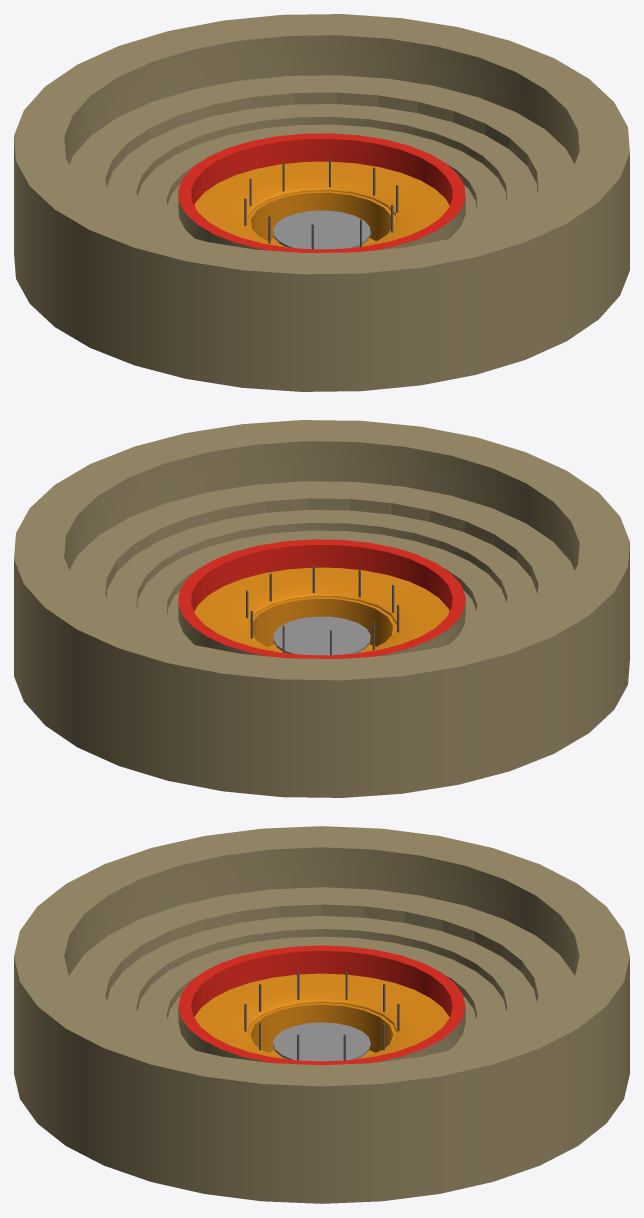
File: COlISEORE.fbx
3 renders of one model, top to bottom at view 1: azimuth 30°, elevation 25°; view 2: azimuth 150°, elevation 25°; view 3: azimuth 270°, elevation 25°, orthographic.
Parts seen in each view (by area): view 1: Circle, Coliseo, Stage, cage; view 2: Circle, Coliseo, Stage, cage; view 3: Circle, Coliseo, Stage, cage.
Part boxes in pixels (bbox=[...]): Circle: bbox=[14, 14, 629, 391]; Coliseo: bbox=[194, 161, 449, 247]; Stage: bbox=[273, 210, 370, 249]; cage: bbox=[244, 159, 398, 249]; Circle: bbox=[14, 420, 629, 797]; Coliseo: bbox=[194, 567, 449, 653]; Stage: bbox=[273, 616, 370, 655]; cage: bbox=[246, 565, 399, 655]; Circle: bbox=[14, 826, 629, 1203]; Coliseo: bbox=[194, 973, 449, 1059]; Stage: bbox=[273, 1022, 370, 1061]; cage: bbox=[244, 972, 399, 1060].
Size of the model in its own units: 81813 by 17203 by 81813.
